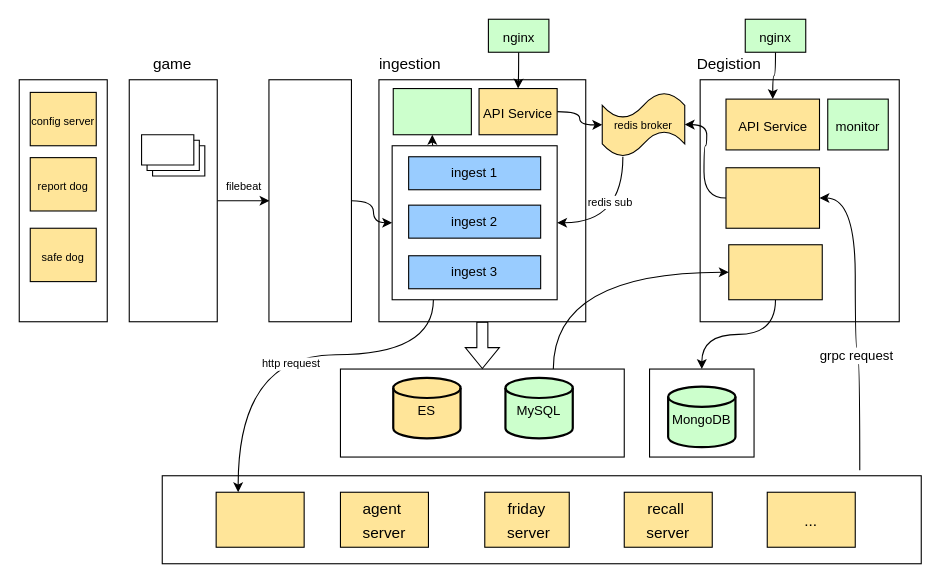
Image size: 941x583. Some labels were removed from this diagram. The shapes that lost their labels are listed below. From the top down, each one's box as (x1, y1, x2, y2) in pixels, then its label:
(392, 87, 471, 135): celery task
(140, 134, 205, 176): log files
(268, 79, 351, 322): kafka Cluster
(725, 167, 820, 228): GRPC Service
(728, 244, 822, 300): Report task (CronJob)
(215, 491, 304, 547): operation server
